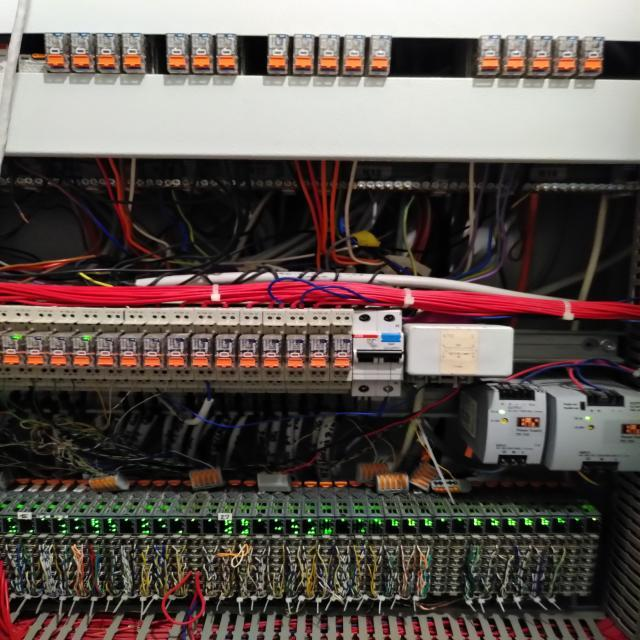FI_Sicherungskombi: (352, 311, 404, 398)
Relais: (94, 34, 117, 68), (71, 36, 92, 68), (122, 32, 141, 66), (191, 35, 210, 69), (481, 36, 498, 74), (532, 39, 551, 72), (168, 36, 186, 70), (295, 36, 313, 70), (371, 37, 389, 71), (46, 36, 65, 68), (191, 37, 210, 69), (270, 38, 288, 71), (319, 37, 337, 70), (508, 36, 524, 73), (558, 39, 575, 73), (585, 38, 602, 72), (217, 35, 234, 69), (344, 37, 361, 71), (287, 338, 306, 367), (239, 336, 257, 366), (0, 335, 19, 363), (143, 338, 160, 367), (193, 337, 210, 366), (218, 340, 235, 369), (26, 337, 43, 365), (71, 339, 88, 367), (97, 338, 114, 366), (166, 340, 183, 368), (266, 339, 283, 367), (310, 337, 327, 365), (333, 337, 350, 365), (50, 338, 66, 366), (121, 339, 137, 367)
